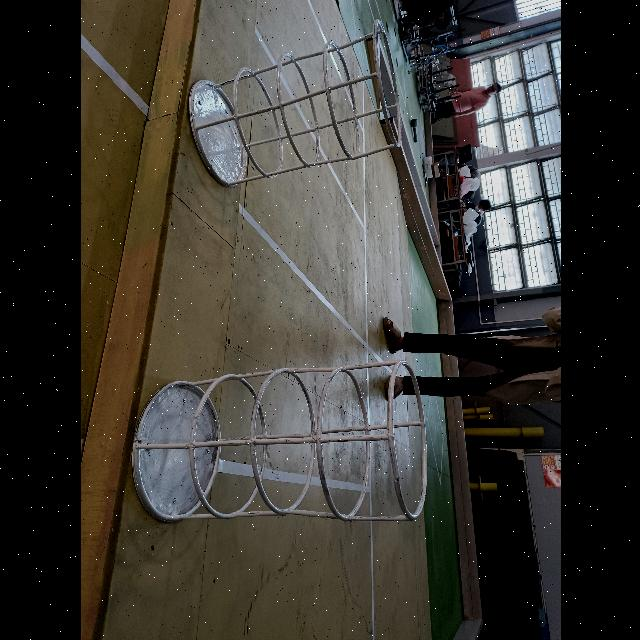S: (129, 358, 429, 526), (181, 11, 408, 191)
